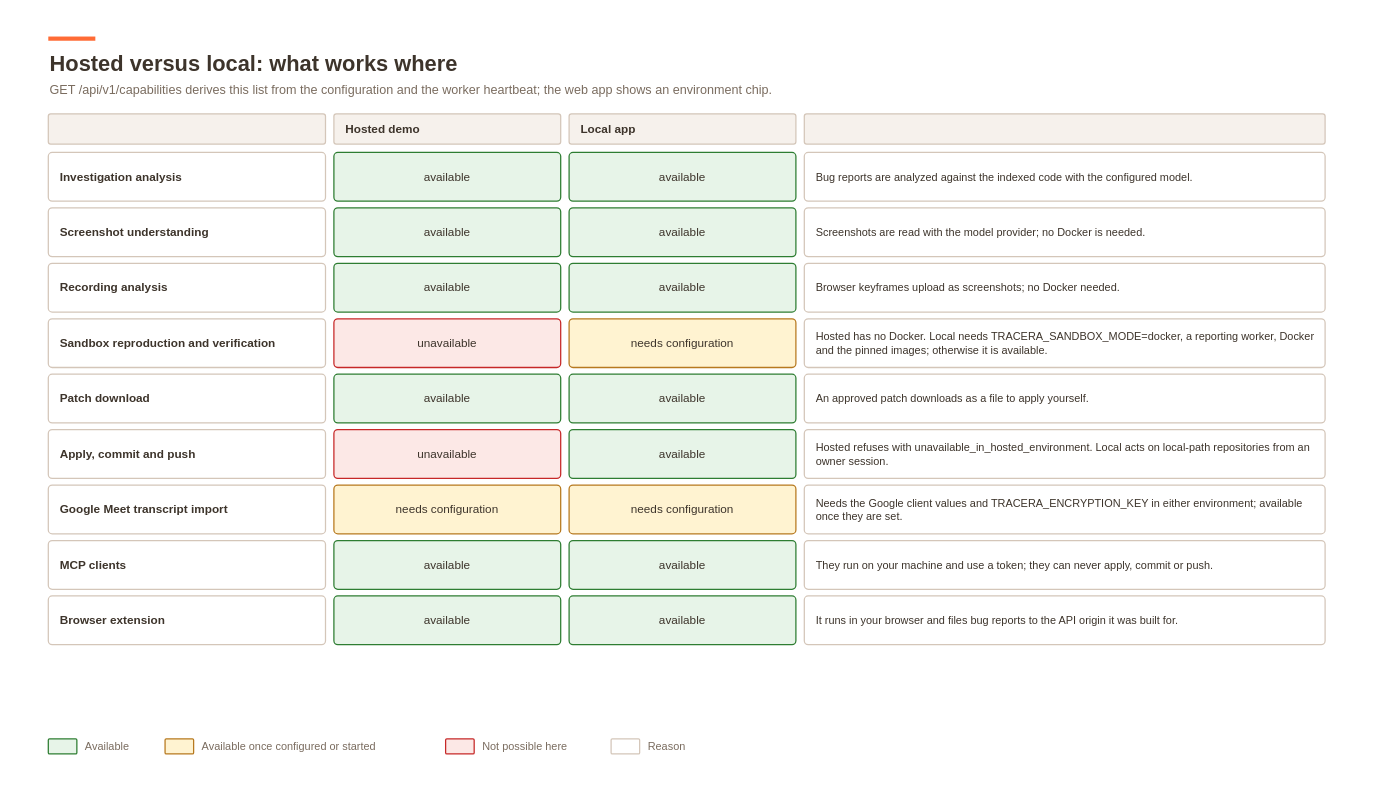
The diagram is 1373 pixels wide and 785 high, and some of its shapes have lost their labels. Each missing label, with the centre of its shape:
"Capability" goes at point 186,128.
"Why" goes at point 1064,128.
